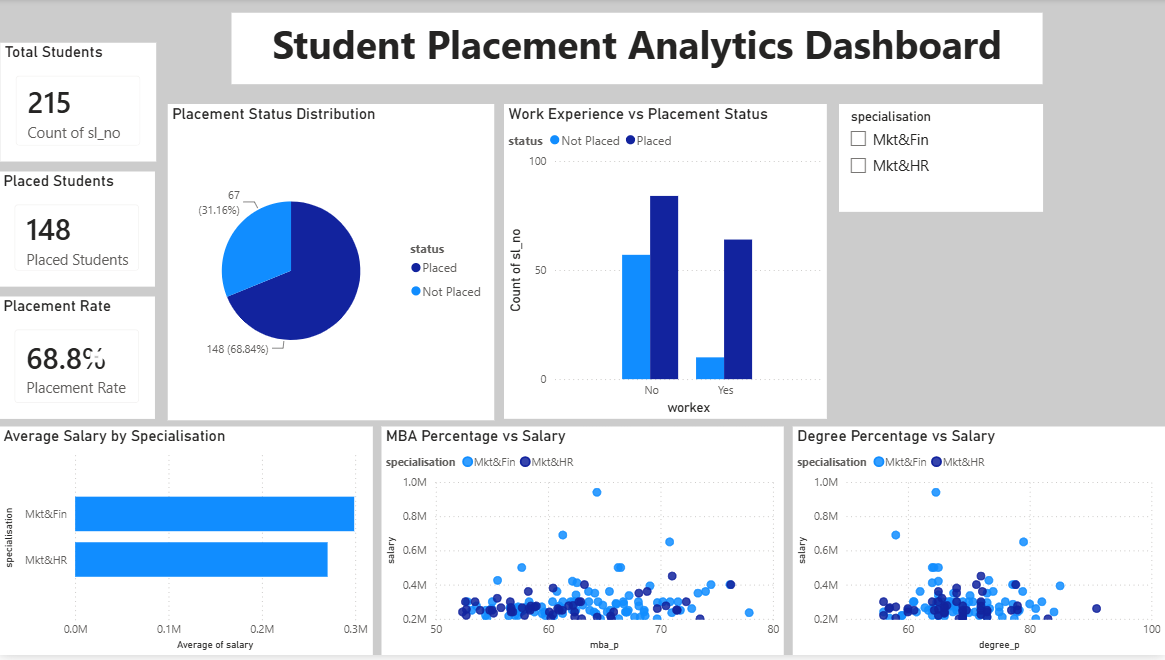

The dashboard page shown, as its layout file describes it:
{"tool":"powerbi","page":{"name":"Placement Dashboard","canvas":[1280,720],"ordinal":0},"visuals":[{"type":"cardVisual","title":"Total Students","fields":{"Data":["CountNonNull(Placement_Data_Full_Class.sl_no)"]},"box":[1.4,48,171.5,130.4],"z":0},{"type":"cardVisual","title":"Placed Students","fields":{"Data":["Placement_Data_Full_Class.Placed Students"]},"box":[0,189.4,171.5,126.2],"z":1},{"type":"cardVisual","title":"Placement Rate","fields":{"Data":["Placement_Data_Full_Class.Placement Rate"]},"box":[0,326.6,171.5,134.5],"z":2},{"type":"pieChart","title":"Placement Status Distribution","fields":{"Category":["Placement_Data_Full_Class.status"],"Y":["CountNonNull(Placement_Data_Full_Class.sl_no)"]},"box":[185.2,115.3,358.1,347.2],"z":3},{"type":"clusteredBarChart","title":"Average Salary by Specialisation","fields":{"Category":["Placement_Data_Full_Class.specialisation"],"Y":["Avg(Placement_Data_Full_Class.salary)"]},"box":[0,469.3,410.3,251.1],"z":4},{"type":"clusteredColumnChart","title":"Work Experience vs Placement Status","fields":{"Category":["Placement_Data_Full_Class.workex"],"Y":["CountNonNull(Placement_Data_Full_Class.sl_no)"],"Series":["Placement_Data_Full_Class.status"]},"box":[554.4,115.3,354,345.8],"z":5},{"type":"scatterChart","title":"MBA Percentage vs Salary","fields":{"X":["Placement_Data_Full_Class.mba_p"],"Y":["Placement_Data_Full_Class.salary"],"Series":["Placement_Data_Full_Class.specialisation"]},"box":[419.9,469.3,441.9,251.1],"z":6},{"type":"scatterChart","title":"Degree Percentage vs Salary","fields":{"X":["Placement_Data_Full_Class.degree_p"],"Y":["Placement_Data_Full_Class.salary"],"Series":["Placement_Data_Full_Class.specialisation"]},"box":[871.4,469.3,408.9,251.1],"z":7},{"type":"slicer","fields":{"Values":["Placement_Data_Full_Class.specialisation"]},"box":[922.1,115.3,223.7,118],"z":8},{"type":"textbox","box":[100.2,387,13.7,12.3],"z":9},{"type":"textbox","box":[255.2,15.1,890.6,78.2],"z":10}]}

Visuals, with their boxes in screenshot pixels (x1, y1, x2, y2), scaled from the page's 1280x720 canvas onto the 1165x660 screenshot:
"Total Students" cardVisual: x1=1 y1=44 x2=157 y2=164
"Placed Students" cardVisual: x1=0 y1=174 x2=156 y2=289
"Placement Rate" cardVisual: x1=0 y1=299 x2=156 y2=423
"Placement Status Distribution" pieChart: x1=169 y1=106 x2=494 y2=424
"Average Salary by Specialisation" clusteredBarChart: x1=0 y1=430 x2=373 y2=659
"Work Experience vs Placement Status" clusteredColumnChart: x1=505 y1=106 x2=827 y2=423
"MBA Percentage vs Salary" scatterChart: x1=382 y1=430 x2=784 y2=659
"Degree Percentage vs Salary" scatterChart: x1=793 y1=430 x2=1164 y2=659
slicer - Placement_Data_Full_Class.specialisation: x1=839 y1=106 x2=1043 y2=214
textbox: x1=91 y1=355 x2=104 y2=366
textbox: x1=232 y1=14 x2=1043 y2=86
